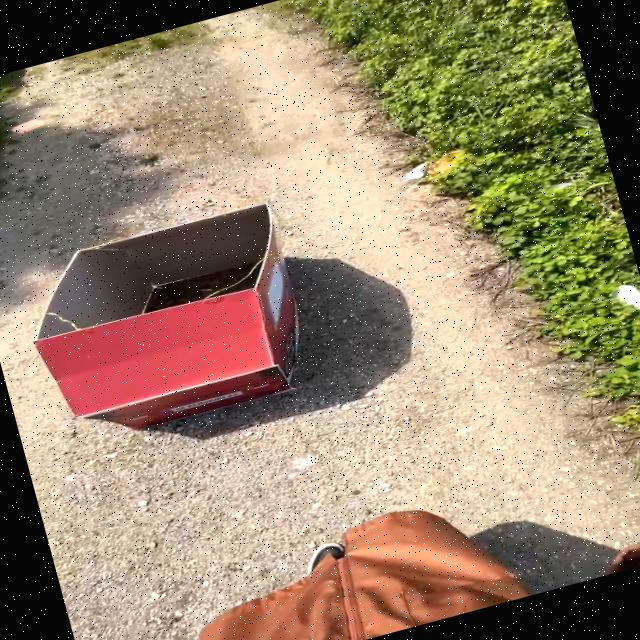red_car: (0, 173, 362, 472)
